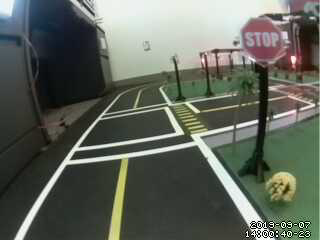Stop_Sign: (235, 11, 298, 69)
